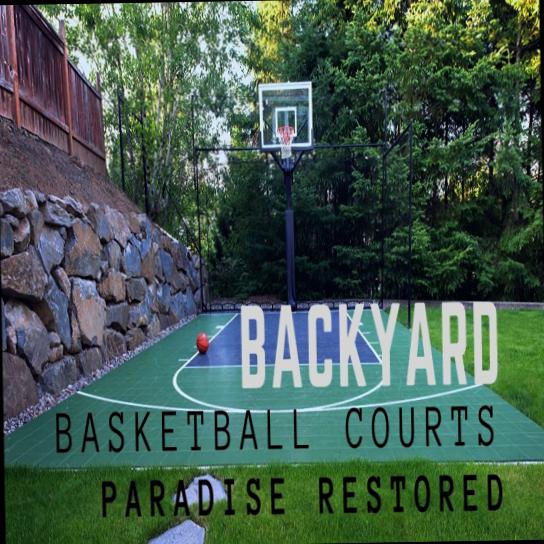basketball-hoop: (275, 125, 295, 160)
